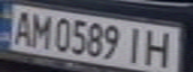0: (51, 15, 72, 53)
5: (66, 17, 87, 56)
8: (84, 20, 106, 60)
9: (100, 21, 124, 61)
A: (6, 8, 36, 46)
H: (139, 28, 178, 69)
I: (121, 25, 148, 65)
M: (27, 11, 54, 50)
